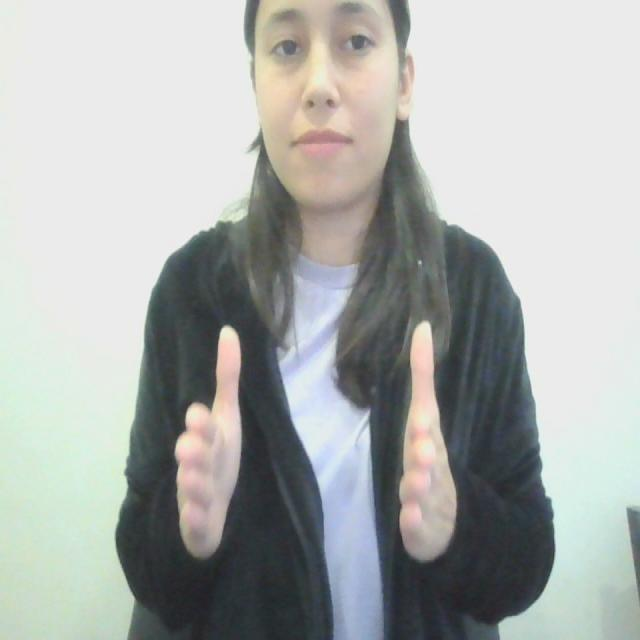Nasil: (160, 316, 472, 564)
